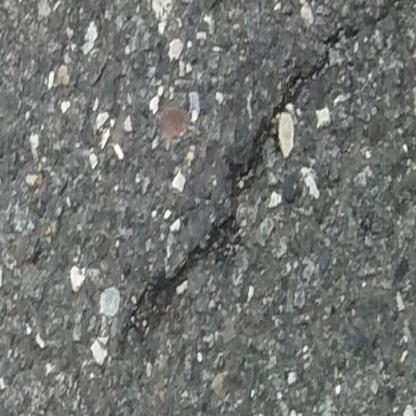Cracks: (114, 0, 416, 349)
